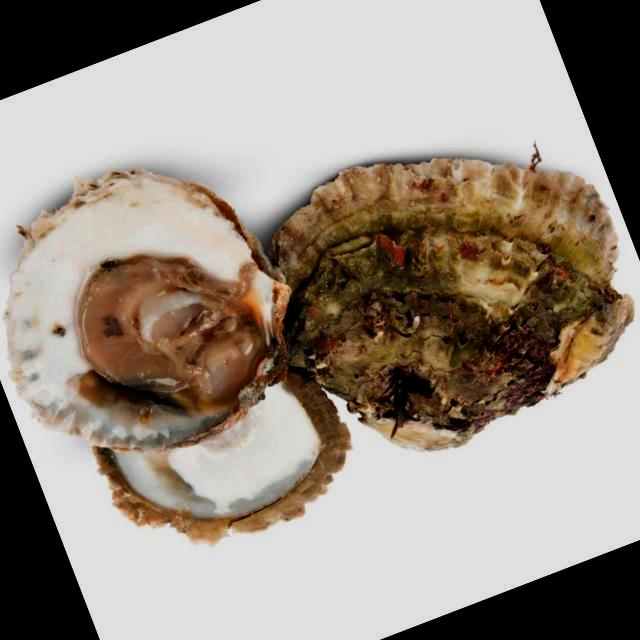Oyster-Closed: (274, 159, 632, 448)
Oyster-Open: (6, 171, 290, 448), (95, 372, 350, 541)
